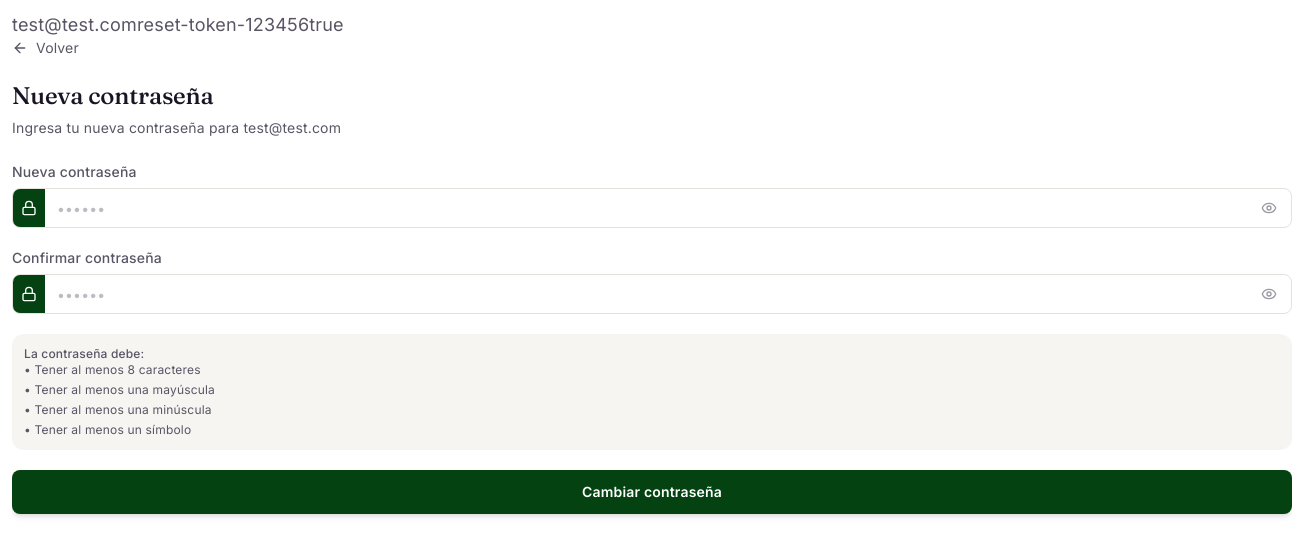
Test: ResetPasswordPage › shows success, clears reset state, and navigates to login after the delay
Step 1. Type "Password123!" into the password field with placeholder "••••••" → coordinates (651, 208), box [45, 189, 1257, 227]
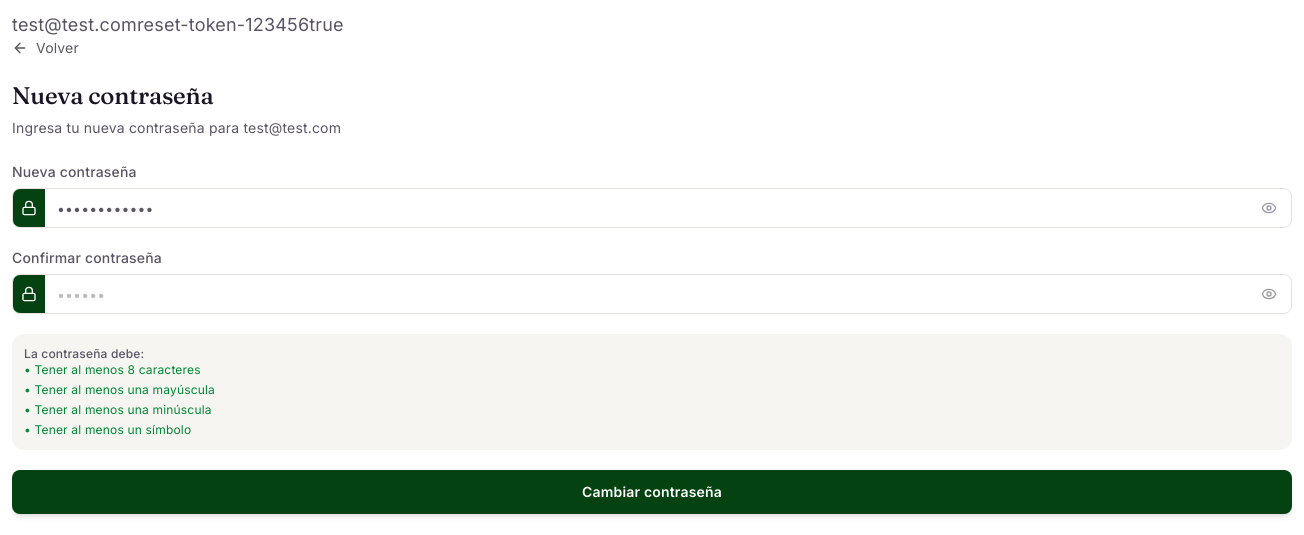
Step 2. Type "Password123!" into the password field with placeholder "••••••" → coordinates (651, 294), box [45, 275, 1257, 313]
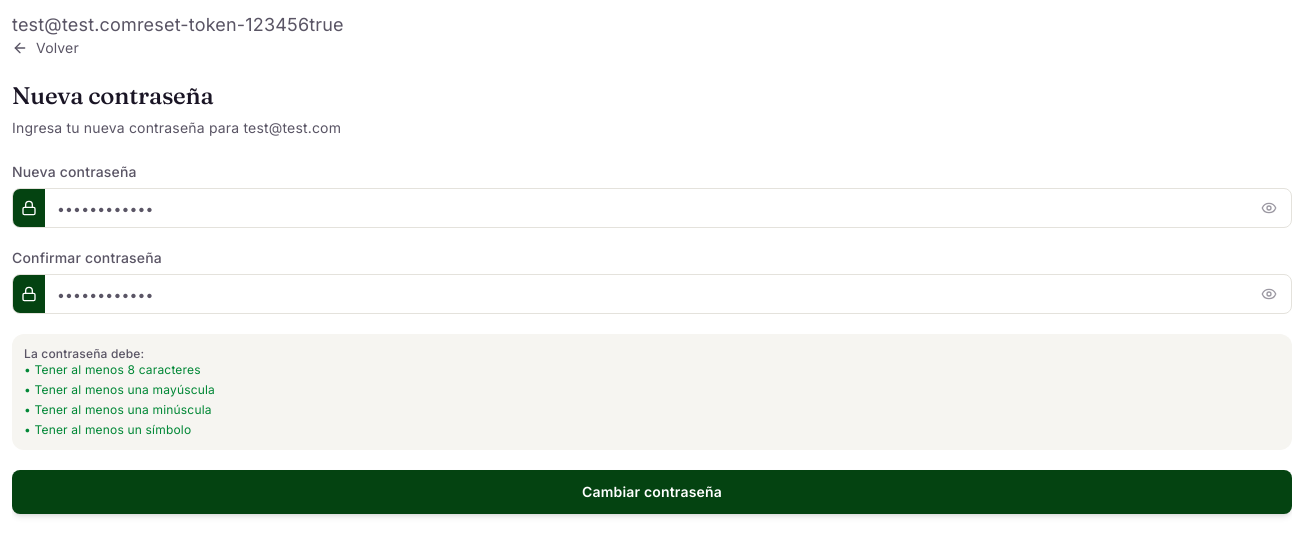
Step 3. Click the button "Cambiar contraseña" → coordinates (652, 492), box [12, 470, 1292, 514]
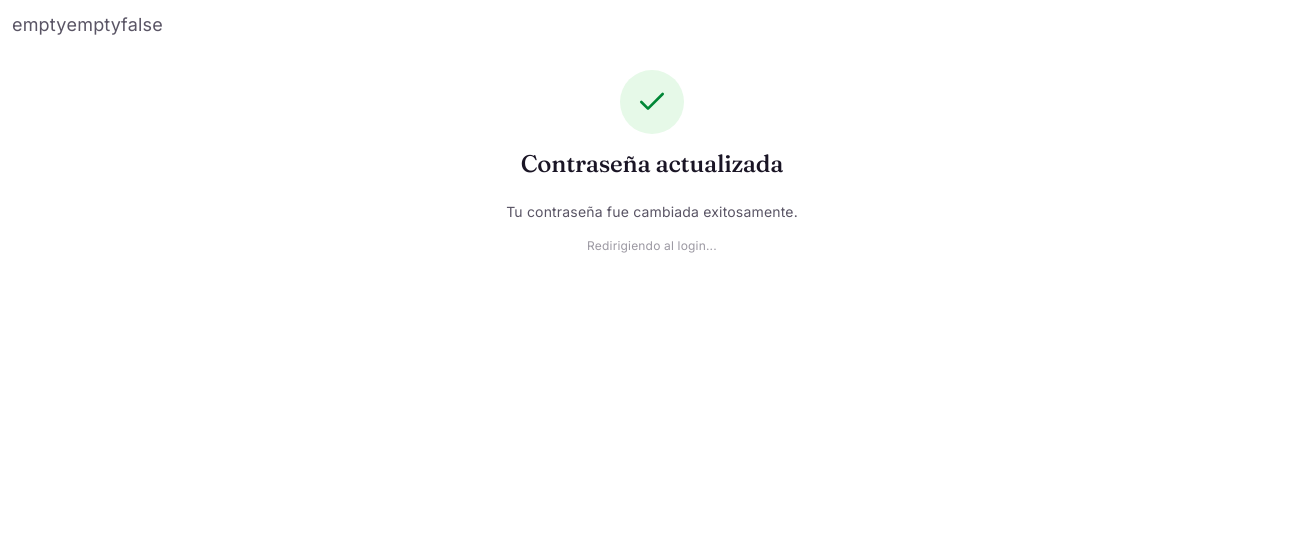
expect the heading "Contraseña actualizada" is shown: met, box [521, 150, 783, 178]
expect the text "Redirigiendo al login..." is shown: met, box [587, 238, 717, 254]
expect the text named "reset email" reads "empty": met, box [12, 14, 66, 35]
